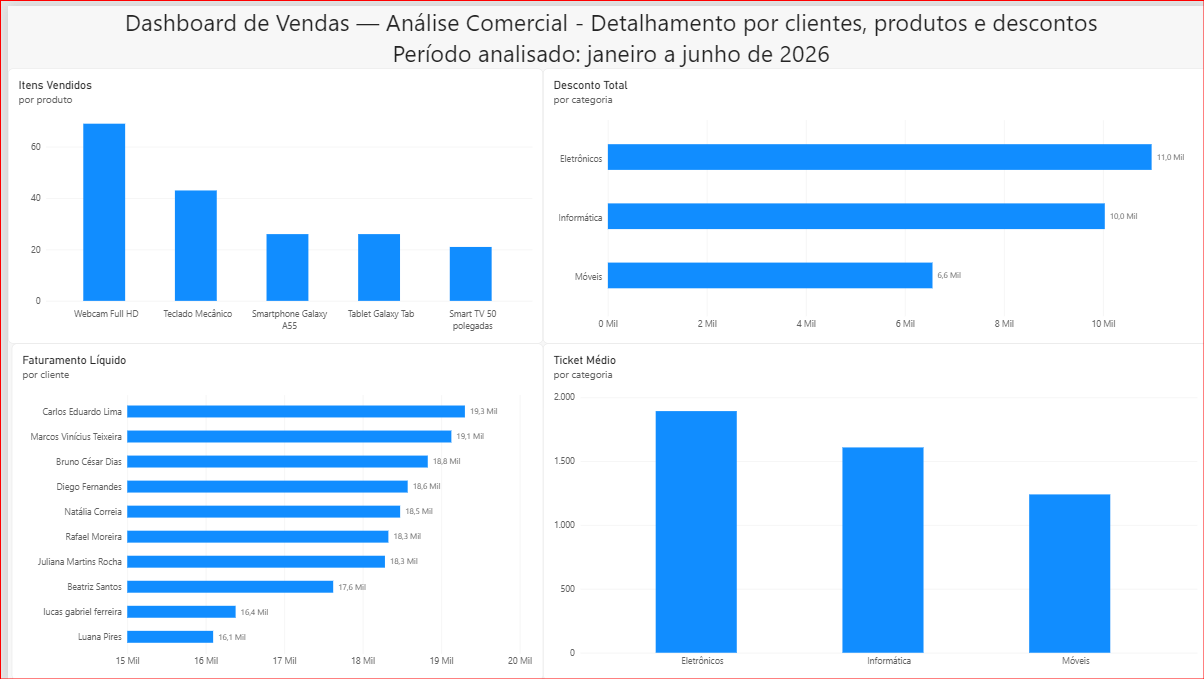

This screenshot's page, from the dashboard's own definition file:
{"tool":"powerbi","page":{"name":"Análise Comercial","canvas":[1920,1080],"ordinal":1},"visuals":[{"type":"textbox","box":[10,0,1910,100],"z":0},{"type":"barChart","fields":{"Category":["dim_cliente.cliente"],"Y":["fato_vendas.Faturamento Líquido"]},"box":[6,540,850,540],"z":1000},{"type":"barChart","fields":{"Category":["dim_produto.categoria"],"Y":["fato_vendas.Desconto Total"]},"box":[856,100,1064,440],"z":2000},{"type":"columnChart","fields":{"Category":["dim_produto.produto"],"Y":["fato_vendas.Itens Vendidos"]},"box":[0,100,856,440],"z":3000},{"type":"clusteredColumnChart","fields":{"Category":["dim_produto.categoria"],"Y":["fato_vendas.Ticket Médio"]},"box":[856,540,1064,540],"z":3001}]}

Visuals, with their boxes in screenshot pixels (x1, y1, x2, y2), scaled from the page's 1920x1080 canvas onto the 1204x679 screenshot:
textbox: bbox=[6, 0, 1203, 63]
barChart - dim_cliente.cliente x fato_vendas.Faturamento Líquido: bbox=[4, 340, 537, 678]
barChart - dim_produto.categoria x fato_vendas.Desconto Total: bbox=[537, 63, 1203, 340]
columnChart - dim_produto.produto x fato_vendas.Itens Vendidos: bbox=[0, 63, 537, 340]
clusteredColumnChart - dim_produto.categoria x fato_vendas.Ticket Médio: bbox=[537, 340, 1203, 678]
